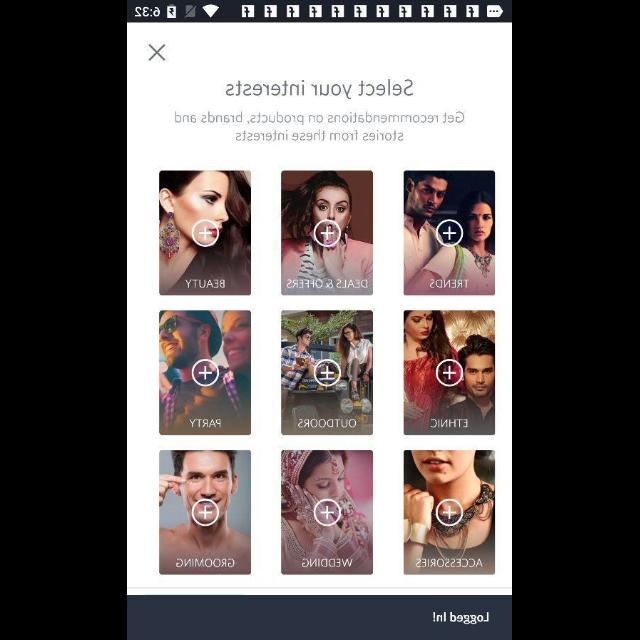icon: (192, 358, 220, 388), (313, 358, 341, 388), (435, 358, 463, 388), (191, 499, 219, 527), (314, 498, 342, 526), (435, 499, 463, 527), (313, 220, 341, 248), (435, 220, 463, 248), (193, 219, 220, 247), (148, 44, 166, 61)
image: (159, 310, 251, 436), (281, 310, 373, 436), (404, 310, 496, 436), (160, 170, 252, 296), (281, 170, 373, 296), (160, 451, 252, 575), (281, 451, 373, 575), (404, 451, 496, 575), (404, 172, 494, 296)
text: (176, 110, 464, 142), (226, 80, 414, 100), (416, 558, 484, 568), (433, 612, 489, 624), (287, 280, 368, 288), (177, 558, 236, 568), (298, 419, 356, 428), (303, 558, 353, 568), (432, 418, 468, 428), (186, 280, 226, 288), (431, 280, 471, 288), (190, 419, 222, 428)
uppertaskbar: (128, 1, 512, 23)
